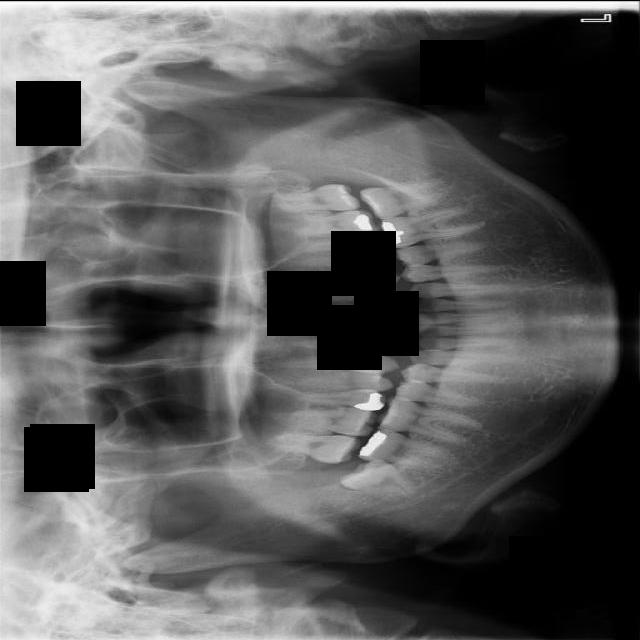52: (355, 418, 408, 474), (372, 388, 424, 442), (355, 175, 407, 229), (374, 205, 421, 255), (335, 198, 382, 246), (314, 183, 361, 209), (351, 249, 396, 273), (349, 232, 387, 256), (350, 387, 387, 411), (357, 338, 400, 355)
73: (576, 20, 582, 24)
BioHorizons Implant: (263, 183, 361, 211)
Blue Sky Bio Implant: (359, 174, 455, 222)
Caries: (259, 431, 362, 464)
Implant: (358, 424, 457, 472)
Keystone Dental Implant: (338, 448, 428, 511)
